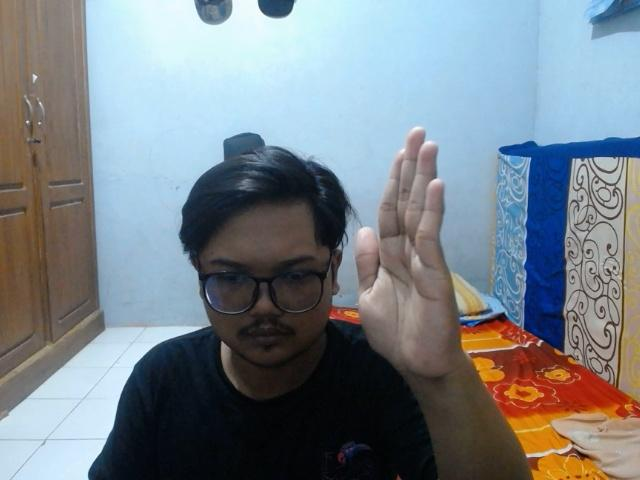Release: (348, 121, 474, 388)
